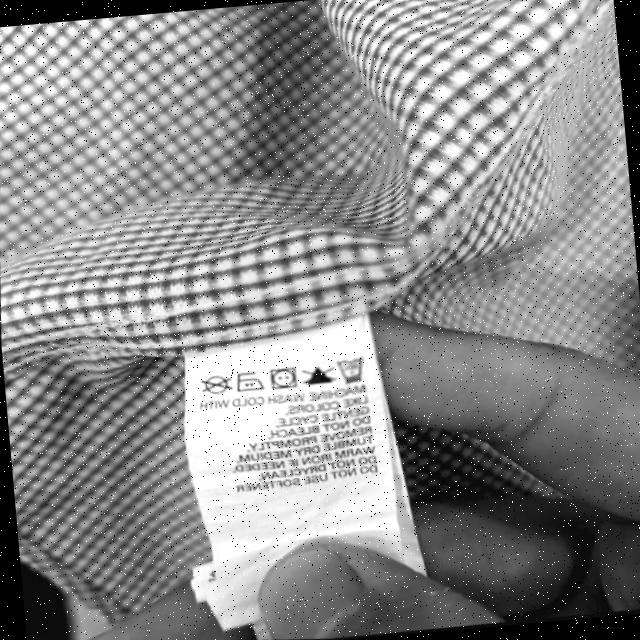ER_iron_medium_temp: (236, 368, 266, 395)
ER_no_bleach: (302, 365, 335, 387)
ER_no_dry_clean: (199, 372, 233, 398)
ER_tumble_dry_normal_heat: (268, 366, 300, 392)
